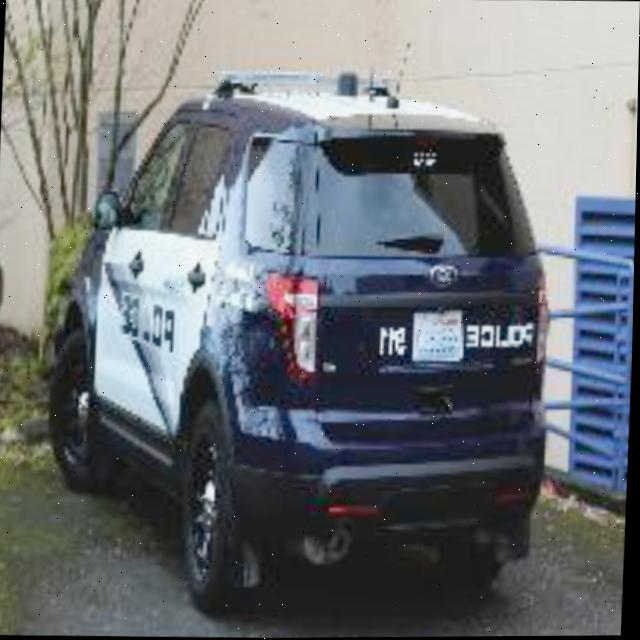emergency: (46, 68, 555, 618)
